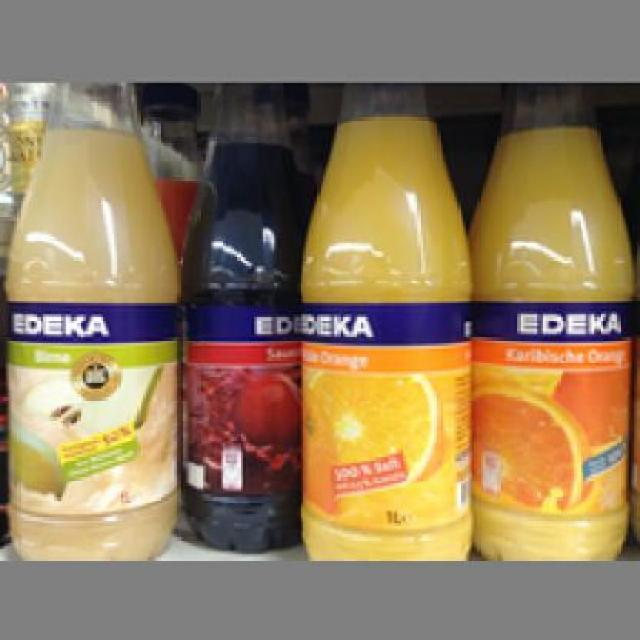Juice: (294, 82, 474, 555), (3, 82, 180, 552), (462, 82, 628, 555), (174, 86, 306, 543)
